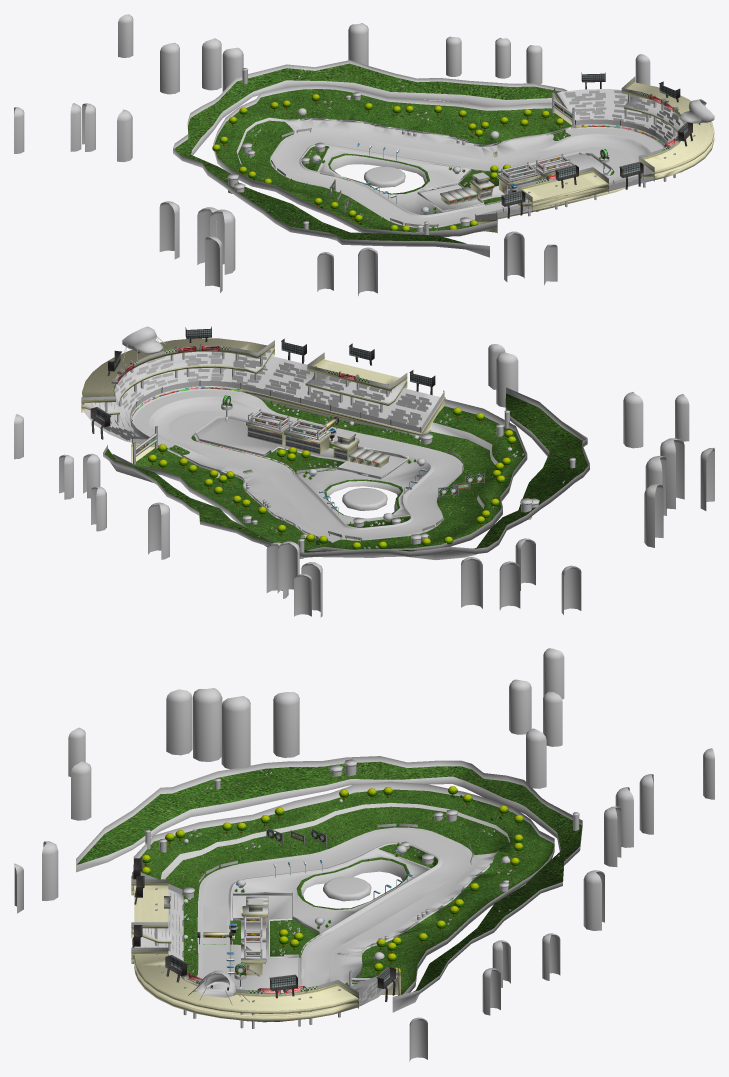
Rendered from Luigi_Circuit5.obj.
3 views of the same model, one above another, from view 1: azimuth 30°, elevation 25°; view 2: azimuth 150°, elevation 25°; view 3: azimuth 270°, elevation 25° (orthographic). The views are drawn at different scales.
Parts seen in each view (by area): view 1: course; view 2: course; view 3: course.
Boxes of the visible parts, x1,y1,x2,y2 form: course: (14, 14, 714, 295); course: (14, 326, 714, 617); course: (14, 648, 714, 1061).
Size of the model in its own units: 1129 by 149 by 1028.
